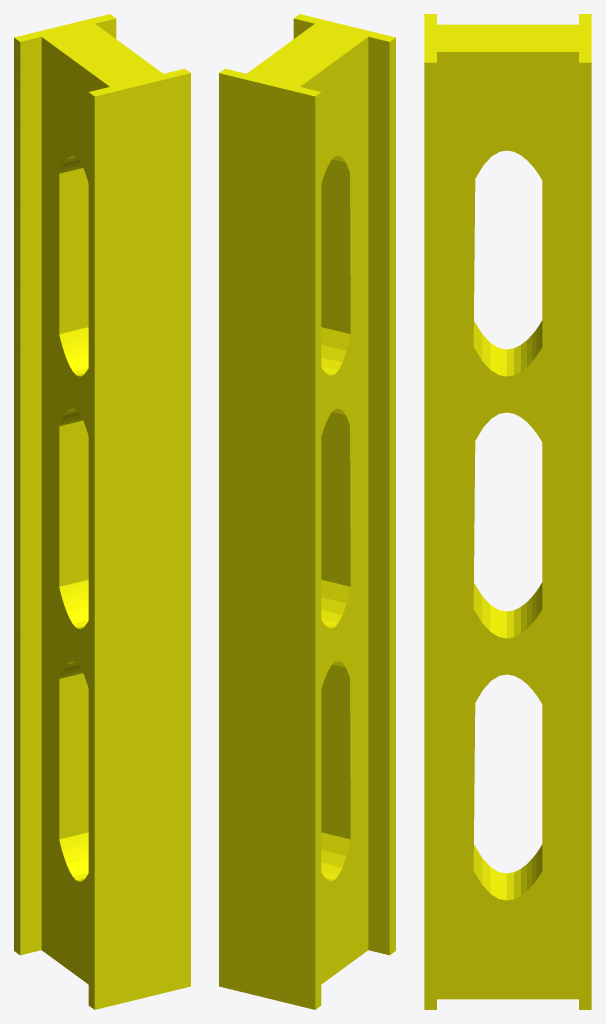
File: Beam.fbx
3 views of the same model, side by side, from view 1: azimuth 30°, elevation 25°; view 2: azimuth 150°, elevation 25°; view 3: azimuth 270°, elevation 25° (orthographic). The views are drawn at different scales.
Parts seen in each view (by area): view 1: Beam; view 2: Beam; view 3: Beam.
Part boxes in pixels (x1,y1,x2,y2): Beam: [14, 14, 190, 1009]; Beam: [219, 14, 395, 1009]; Beam: [424, 14, 591, 1009].
Bounding box in the file's own units: 90 × 816 × 131.
